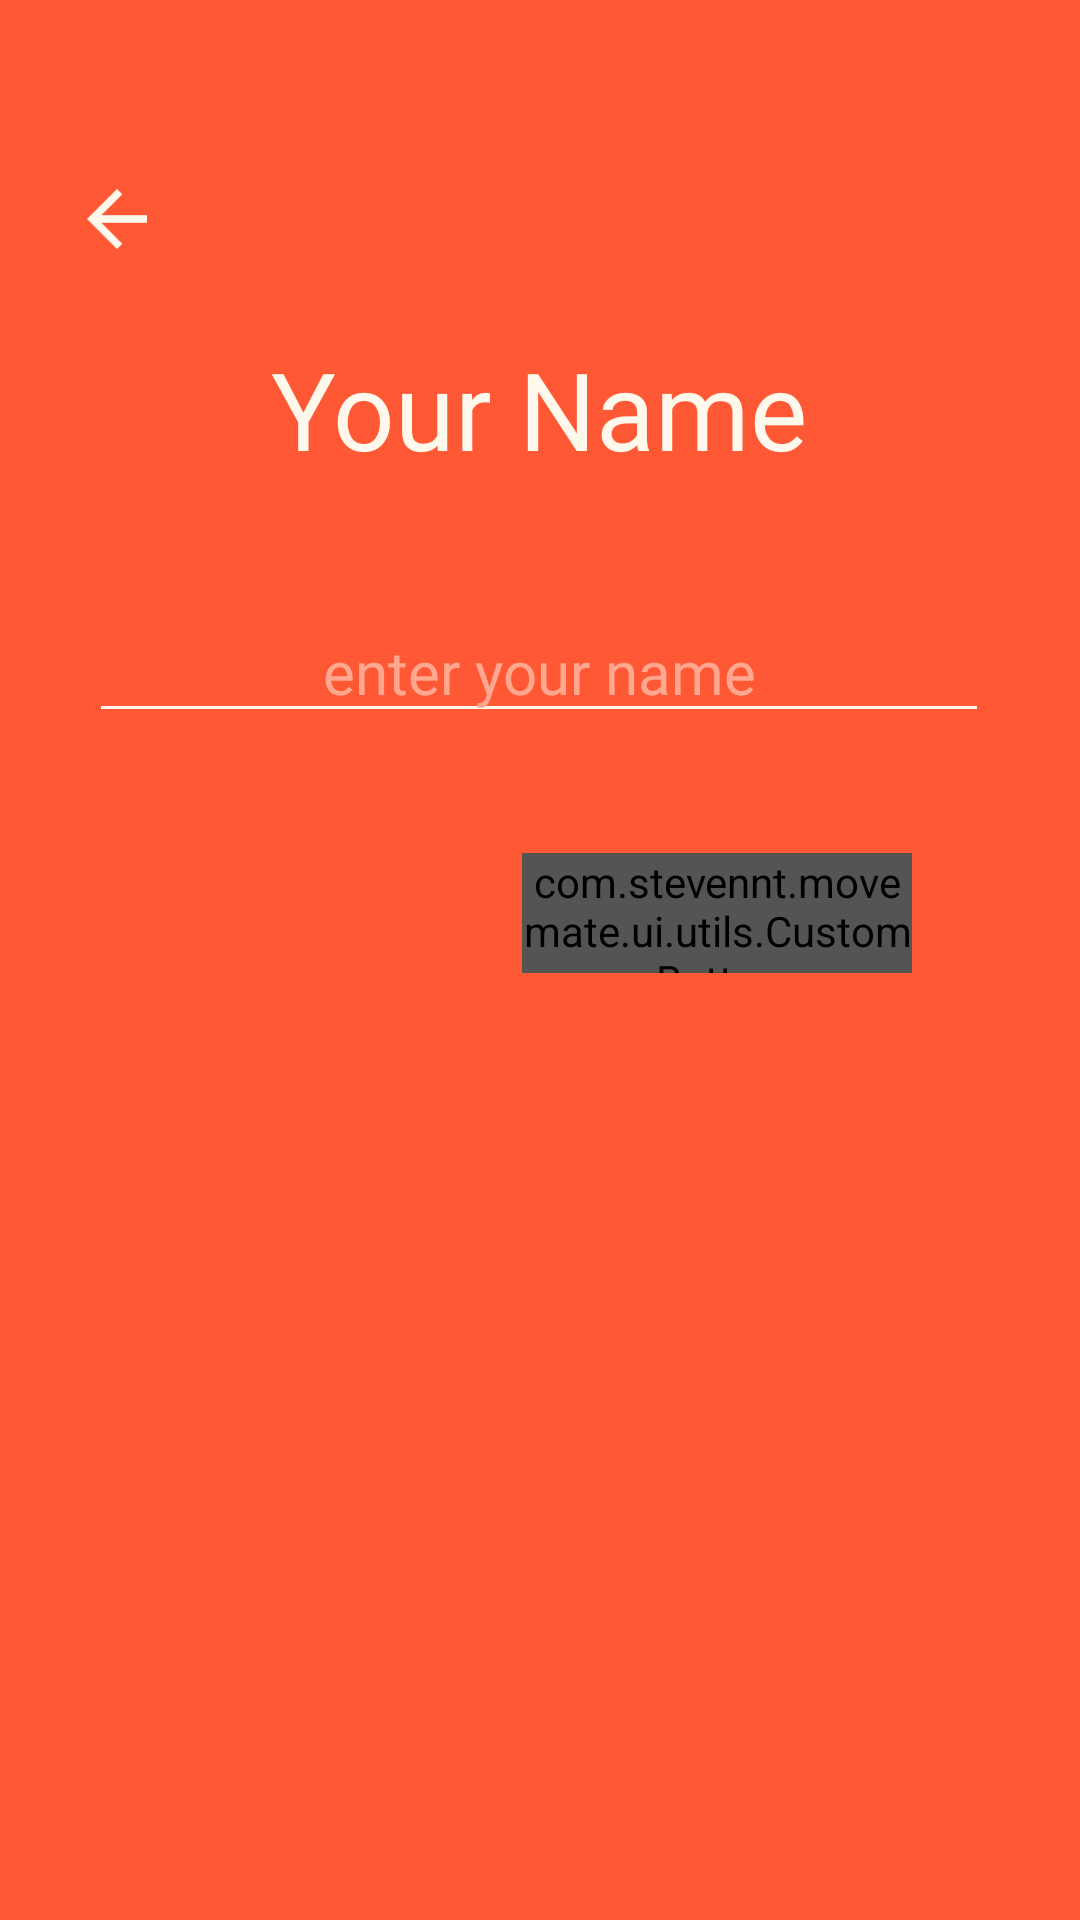

Screen size 1080*1920. Icon name, then its box in pixels as (x1, y1, x2, y2):
arrow back: (87, 189, 147, 249)
